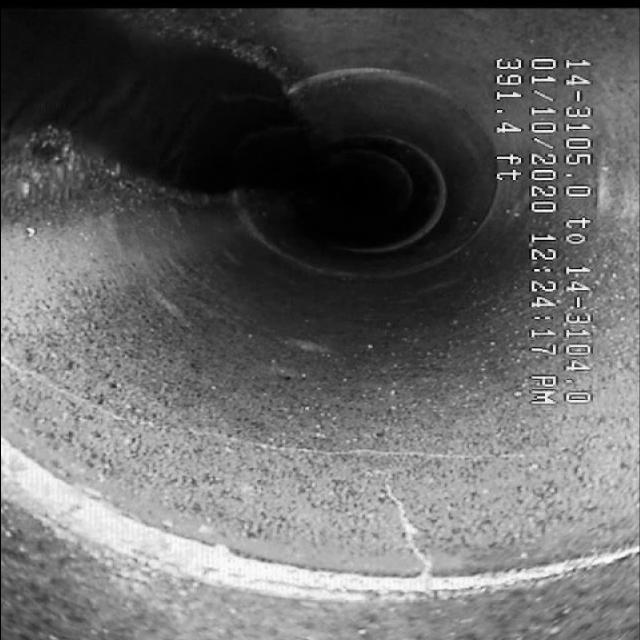Crack: (116, 424, 528, 512)
